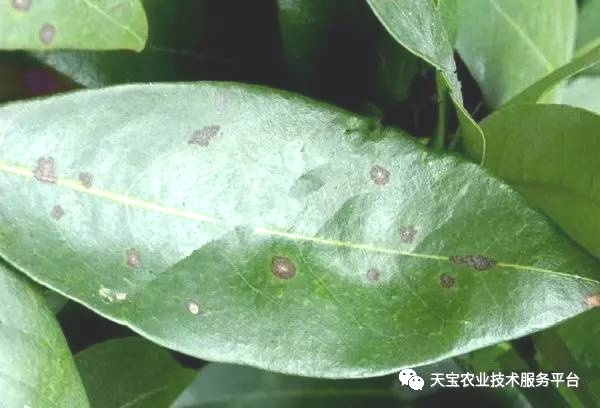Anthracnose: (404, 229, 519, 331), (31, 146, 106, 226), (202, 234, 311, 289), (342, 157, 428, 218), (175, 116, 236, 149)
